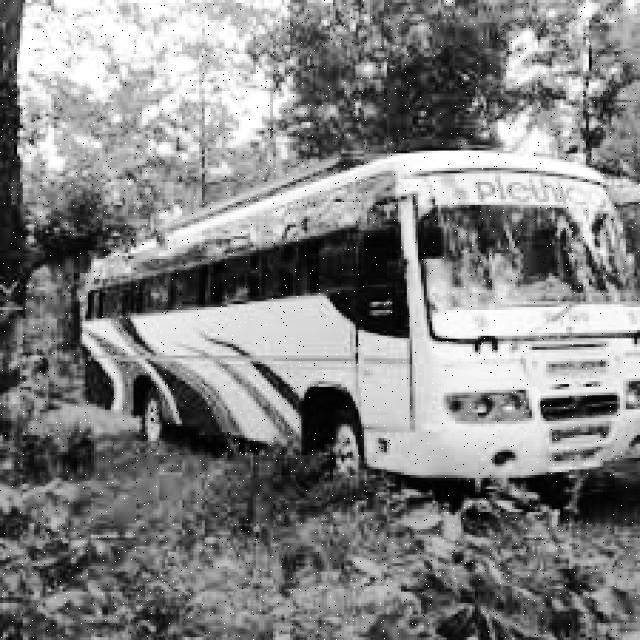Bus: (79, 154, 640, 477)
